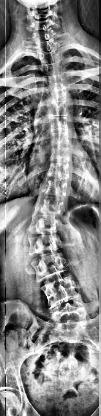Vertebrae: (40, 277, 78, 307), (32, 256, 70, 280), (28, 233, 64, 256), (52, 302, 87, 324), (42, 178, 74, 200), (31, 213, 62, 235), (34, 195, 70, 211), (48, 162, 78, 181), (50, 127, 78, 147), (48, 146, 78, 164), (48, 102, 72, 118), (50, 86, 74, 102), (40, 50, 64, 66), (50, 117, 72, 133), (48, 73, 72, 87), (45, 62, 69, 76), (37, 39, 59, 53), (32, 30, 54, 42)
